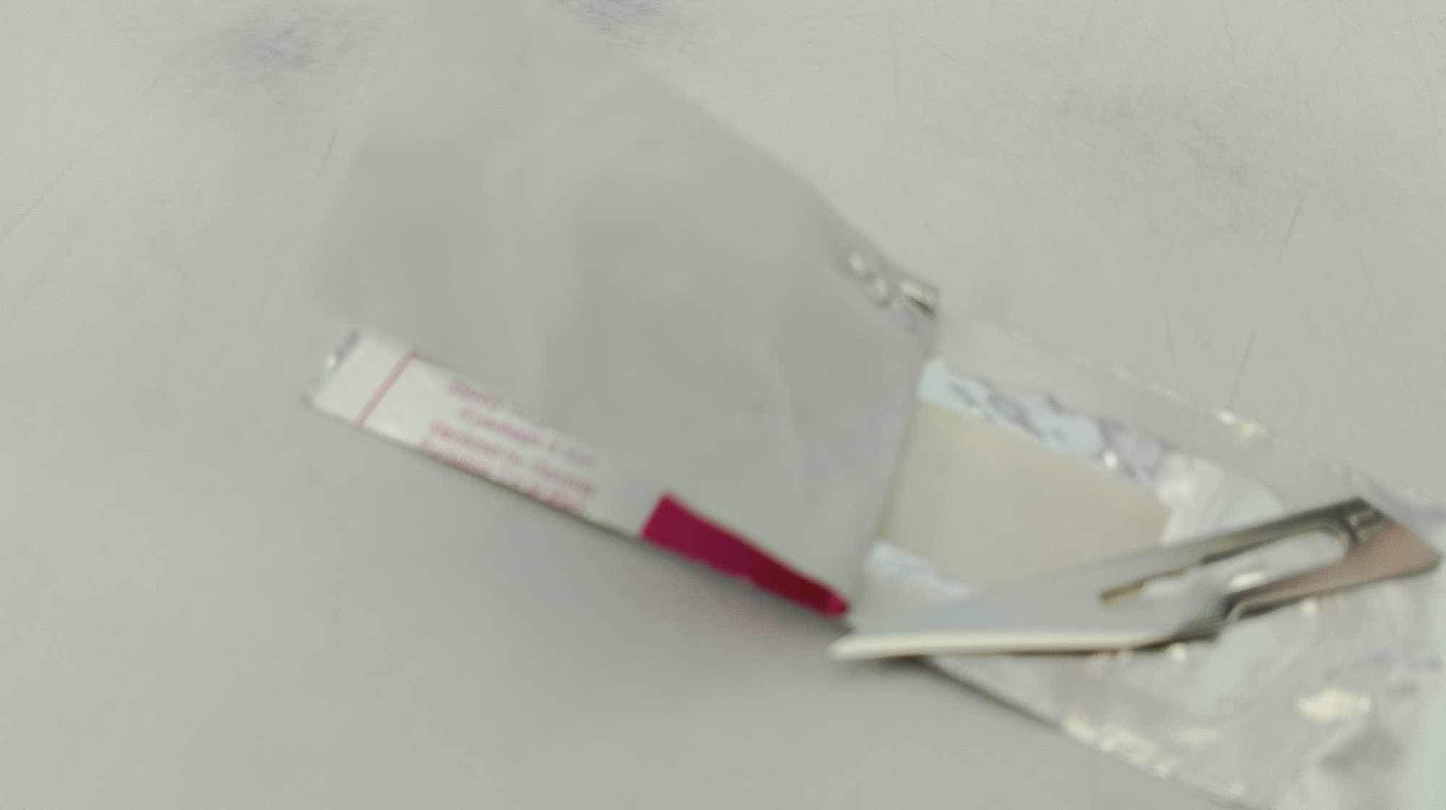General: (14, 5, 1435, 801), (301, 307, 1437, 801)
Pathological: (286, 11, 945, 626)
Sharps: (303, 324, 850, 621), (826, 493, 1440, 665)
